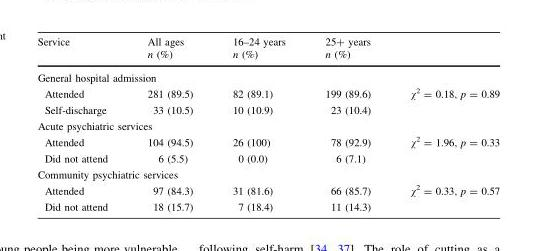table: (36, 36, 499, 211)
table column: (389, 36, 499, 211), (212, 36, 304, 211), (36, 36, 126, 211), (126, 36, 212, 211), (304, 36, 389, 211)
table column header: (36, 36, 499, 66)
table projected row header: (36, 66, 499, 84), (36, 118, 499, 133), (36, 166, 499, 181)
table row: (36, 47, 499, 66), (36, 66, 499, 84), (36, 84, 499, 102), (36, 133, 499, 150), (36, 181, 499, 198), (36, 102, 499, 118), (36, 150, 499, 166), (36, 118, 499, 133), (36, 166, 499, 181), (36, 198, 499, 211), (36, 36, 499, 47)
table spanning cell: (389, 84, 499, 118), (389, 133, 499, 166), (389, 181, 499, 211), (212, 36, 304, 66), (36, 36, 126, 66), (126, 36, 212, 66), (304, 36, 389, 66)
